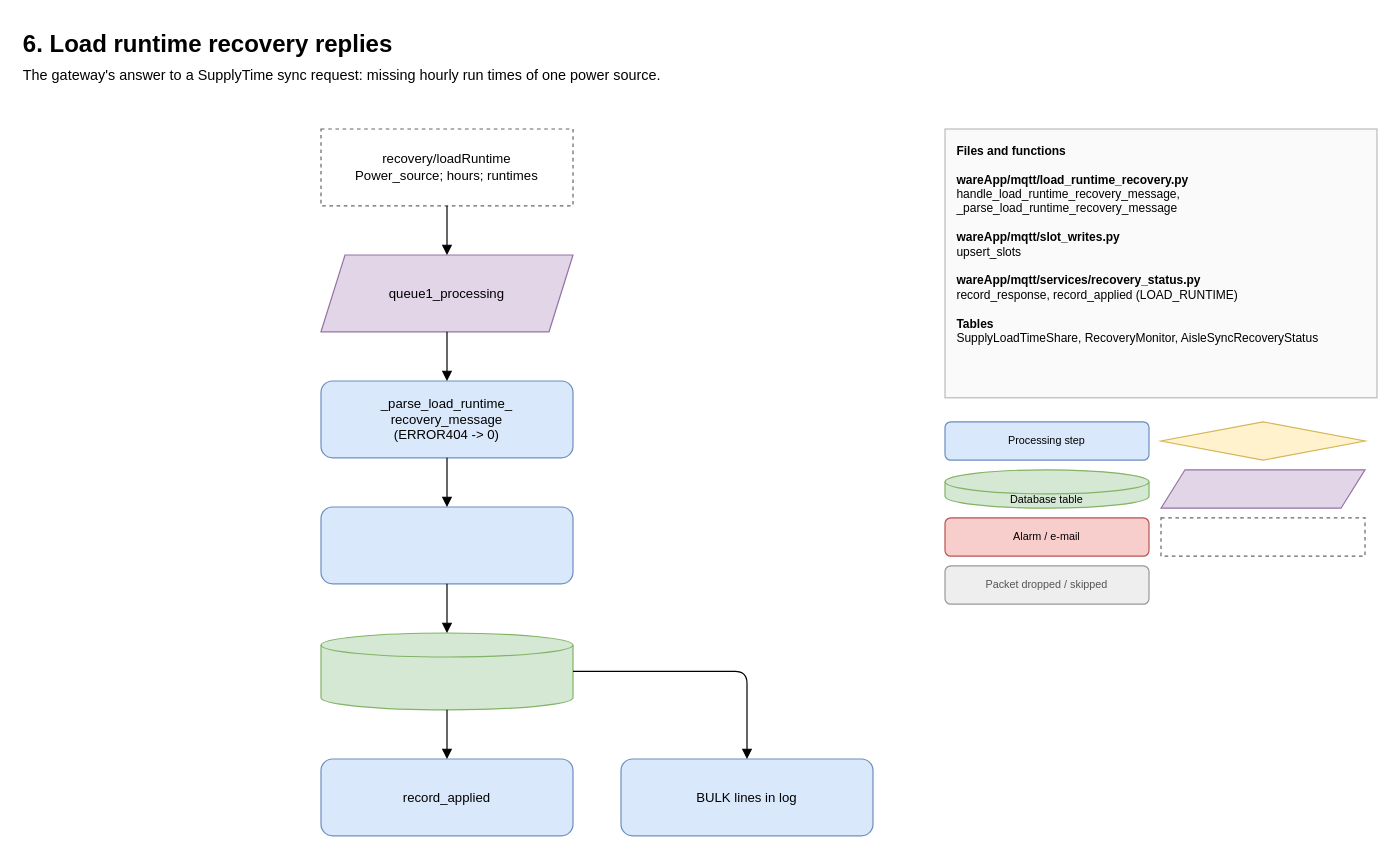
The diagram is 1398 pixels wide and 857 high, and some of its shapes have lost their labels. Here are the shapes that lost their labels. From the top down, the centre of each, then its label:
At (1262,440): "Decision".
At (1262,488): "RabbitMQ queue / MQTT topic".
At (446,545): "record_response".
At (1262,536): "External: gateway, broker, timer".
At (446,671): "upsert_slots SupplyLoadTimeShare hourly_run_time".
